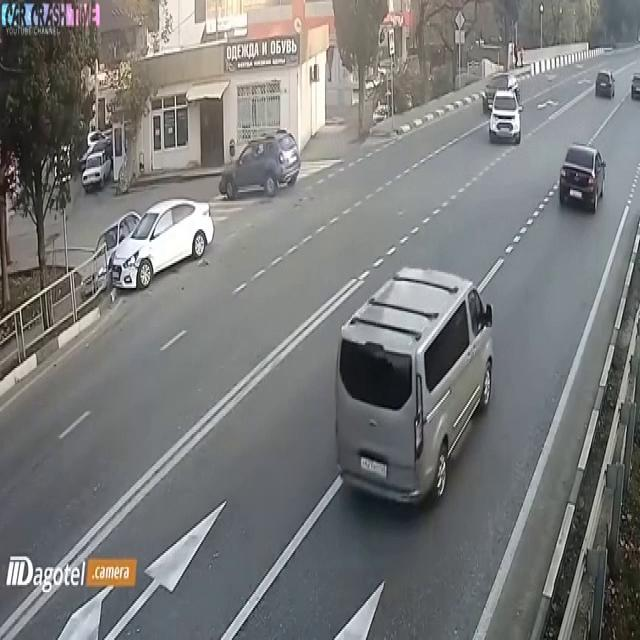accident: (76, 180, 204, 302)
